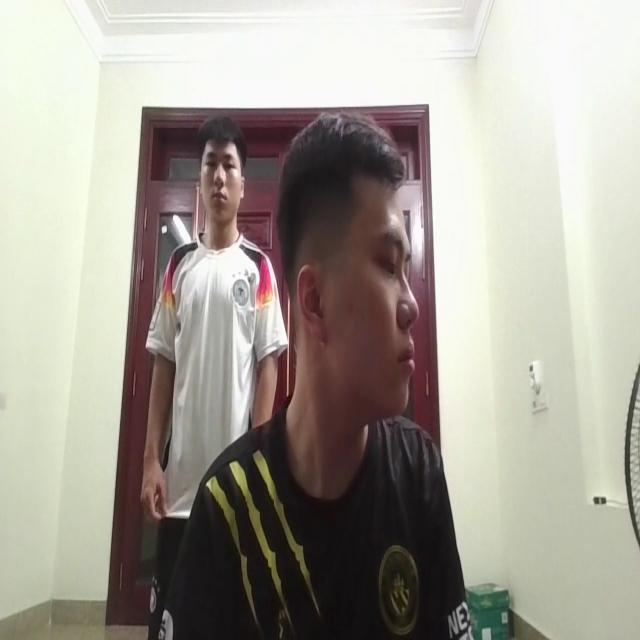extra_person: (146, 81, 276, 524)
student: (202, 108, 466, 640)
